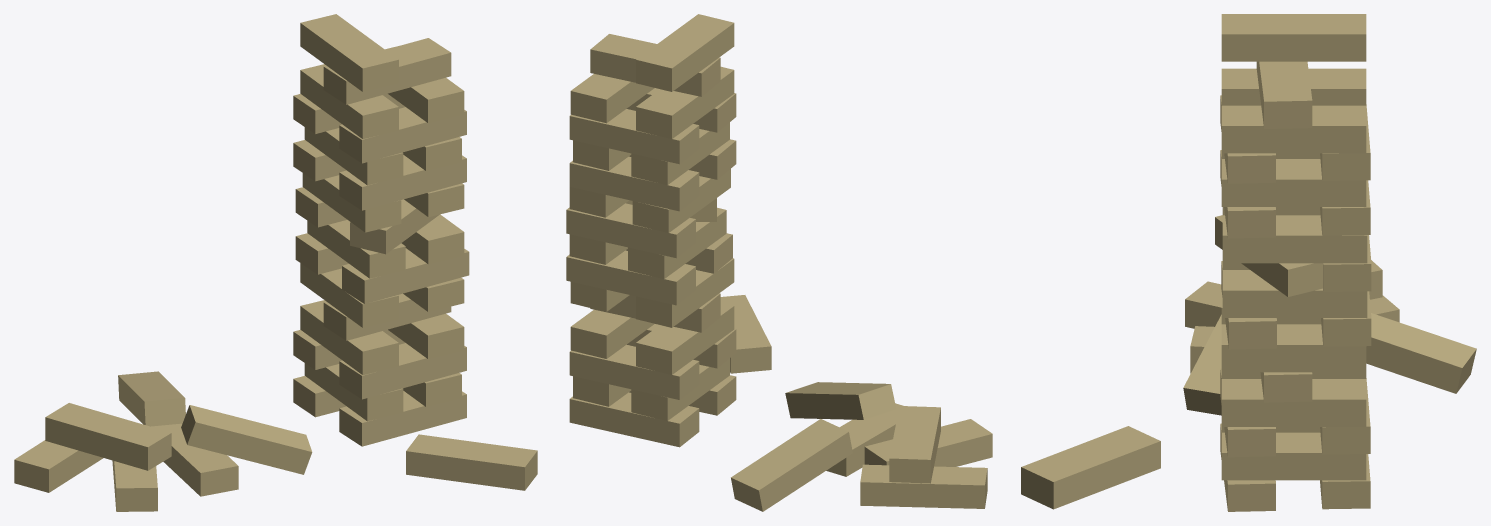
Rendered from toy.FBX.
The picture shows the model from 3 angles, left to right: view 1: azimuth 30°, elevation 25°; view 2: azimuth 150°, elevation 25°; view 3: azimuth 270°, elevation 25°; orthographic projection. The views are drawn at different scales.
Visible parts, largest first — view 1: JengaBloc0, JengaBlo29, JengaBlo33, JengaBlo14, JengaBlo16, JengaBlo20, JengaBloc4, JengaBlo24, JengaBlo22, JengaBlo26, JengaBlo21, JengaBloc2 (+24 smaller); view 2: JengaBlo34, JengaBlo14, JengaBlo30, JengaBlo17, JengaBloc5, JengaBlo27, JengaBlo23, JengaBlo11, JengaBlo25, JengaBlo33, JengaBlo29, JengaBlo21 (+23 smaller); view 3: JengaBlo14, JengaBloc0, JengaBlo19, JengaBloc3, JengaBlo34, JengaBlo13, JengaBloc8, JengaBloc1, JengaBlo15, JengaBlo28, JengaBlo21, JengaBlo16 (+18 smaller).
Boxes of the visible parts, x1,y1,x2,y2 form: JengaBloc0: (406, 434, 537, 490); JengaBlo29: (45, 403, 171, 470); JengaBlo33: (181, 405, 312, 474); JengaBlo14: (300, 14, 398, 91); JengaBlo16: (323, 38, 451, 104); JengaBlo20: (339, 107, 466, 163); JengaBloc4: (339, 343, 466, 399); JengaBlo24: (342, 248, 469, 303); JengaBlo22: (339, 391, 466, 446); JengaBlo26: (339, 155, 466, 210); JengaBlo21: (300, 64, 398, 138); JengaBloc2: (300, 300, 398, 374); JengaBlo34: (731, 419, 852, 511); JengaBlo14: (636, 14, 734, 91); JengaBlo30: (860, 464, 987, 508); JengaBlo17: (569, 109, 699, 164); JengaBloc5: (569, 344, 699, 399); JengaBlo27: (569, 156, 699, 211); JengaBlo23: (569, 392, 699, 447); JengaBlo11: (566, 203, 695, 258); JengaBlo25: (566, 250, 695, 305); JengaBlo33: (785, 382, 896, 419); JengaBlo29: (889, 406, 940, 483); JengaBlo21: (636, 66, 734, 138); JengaBlo14: (1221, 14, 1366, 61); JengaBloc0: (1021, 426, 1160, 509); JengaBlo19: (1221, 105, 1366, 153); JengaBloc3: (1221, 379, 1366, 426); JengaBlo34: (1366, 313, 1476, 393); JengaBlo13: (1222, 215, 1367, 263); JengaBloc8: (1221, 324, 1366, 372); JengaBloc1: (1221, 432, 1366, 480); JengaBlo15: (1221, 159, 1366, 206); JengaBlo28: (1222, 270, 1367, 317); JengaBlo21: (1221, 68, 1366, 105); JengaBlo16: (1256, 61, 1312, 128).
Size of the model in its own units: 115 by 100 by 94.4.
